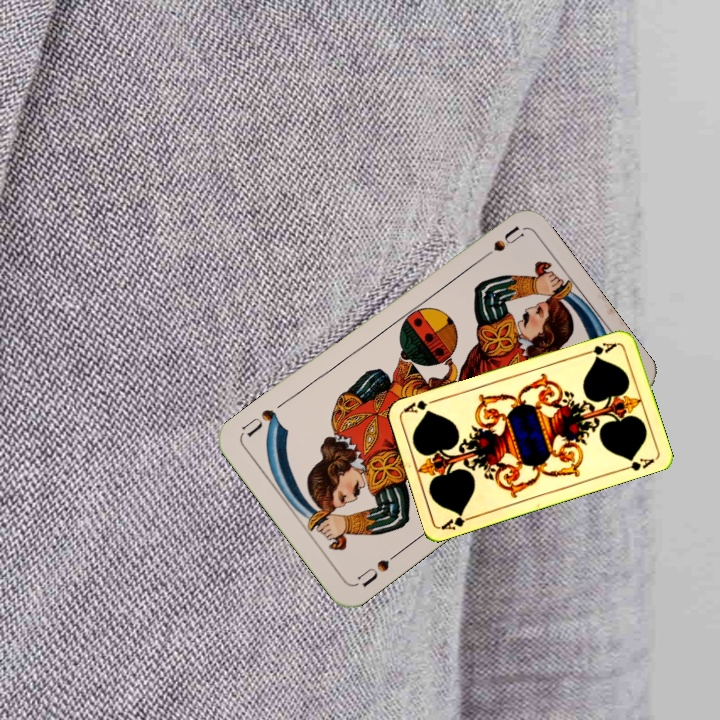GA: (438, 509, 478, 532), (581, 338, 620, 360)
SU: (472, 222, 526, 266), (352, 547, 402, 590)
